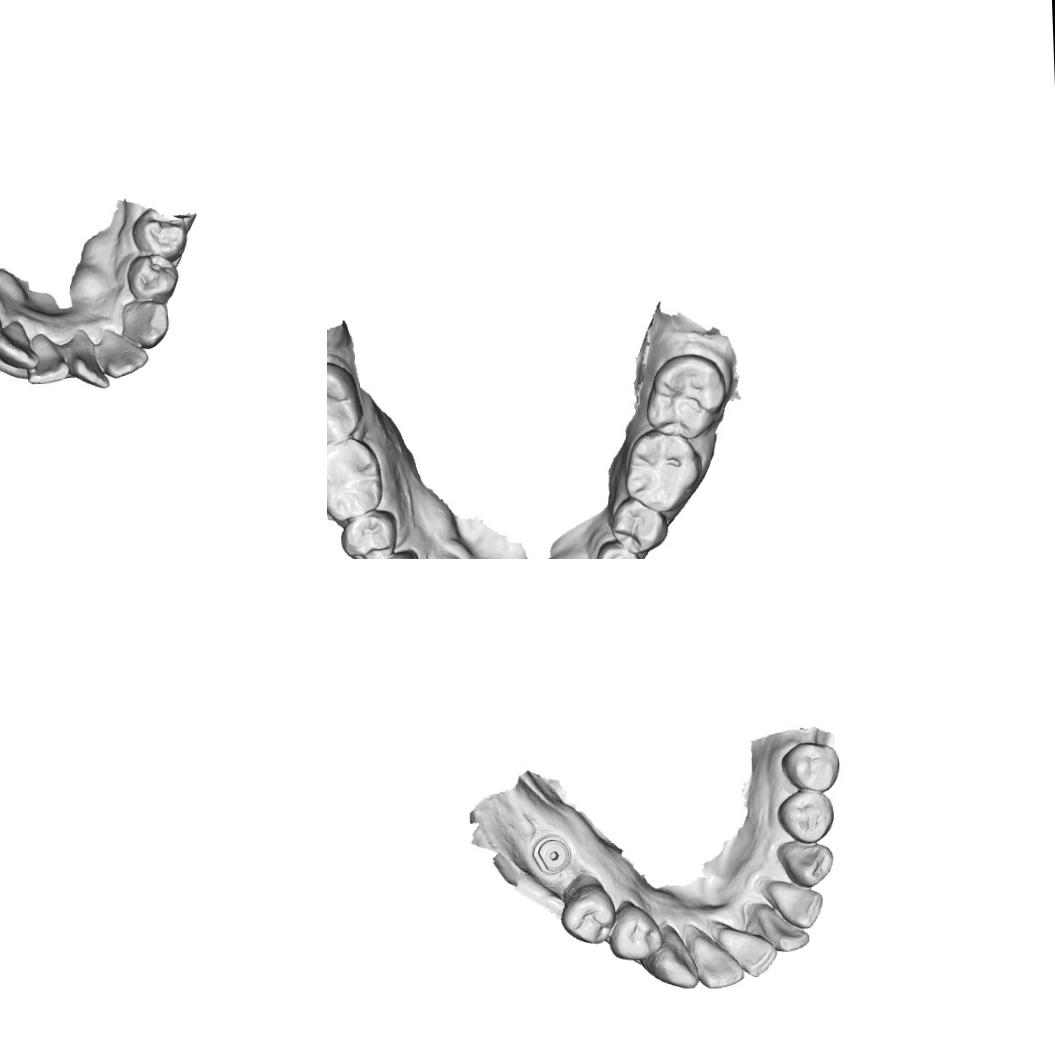canine: (642, 924, 698, 994), (774, 838, 834, 891), (117, 298, 174, 348)
implant: (530, 834, 575, 878)
incisor: (717, 926, 778, 980), (758, 904, 812, 958), (694, 936, 746, 991), (768, 881, 826, 930), (66, 334, 112, 390), (102, 330, 150, 380), (25, 340, 70, 386), (0, 320, 35, 372)
molar: (646, 352, 730, 442), (620, 430, 704, 516), (327, 436, 385, 524), (327, 359, 363, 452)
premolar: (608, 496, 668, 555), (606, 904, 664, 964), (558, 886, 613, 948), (776, 788, 834, 846), (780, 740, 842, 794), (337, 506, 400, 559), (131, 209, 191, 261), (127, 252, 180, 302), (593, 537, 646, 559)
